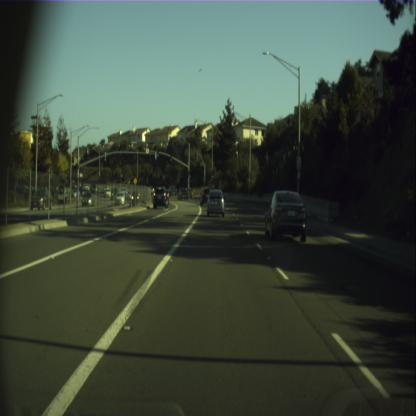Green: (156, 151, 159, 159), (211, 170, 214, 178), (170, 154, 172, 162), (188, 170, 190, 178)
RedLeft: (143, 146, 145, 152)
